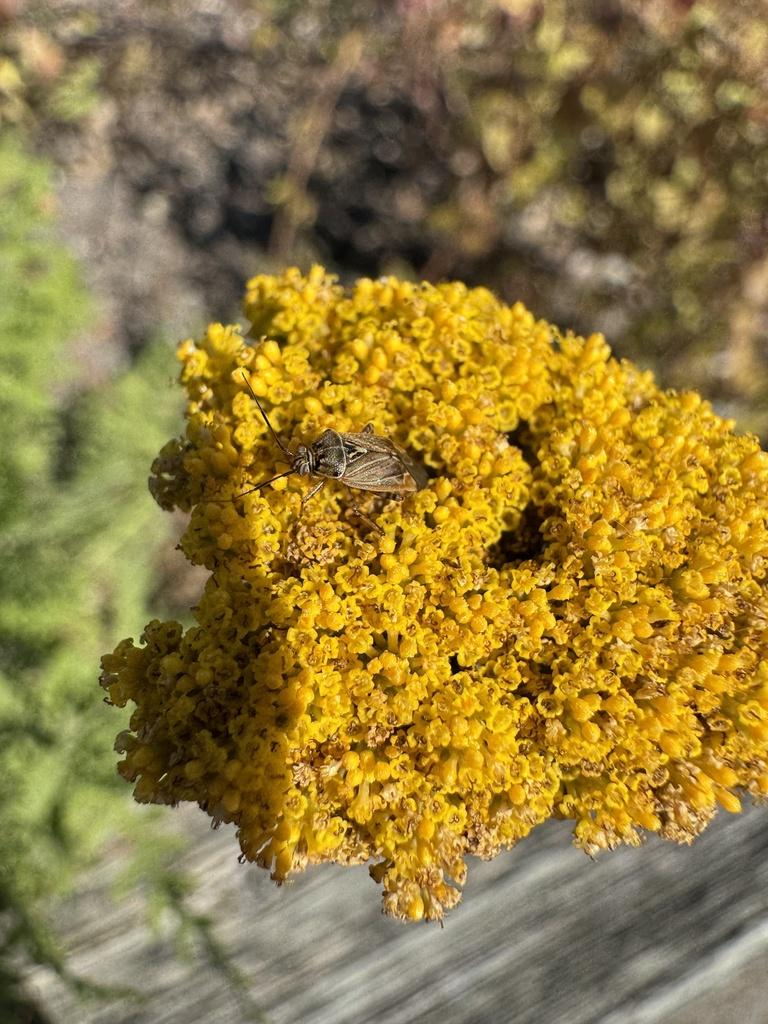plant_bugs: (199, 343, 450, 551)
